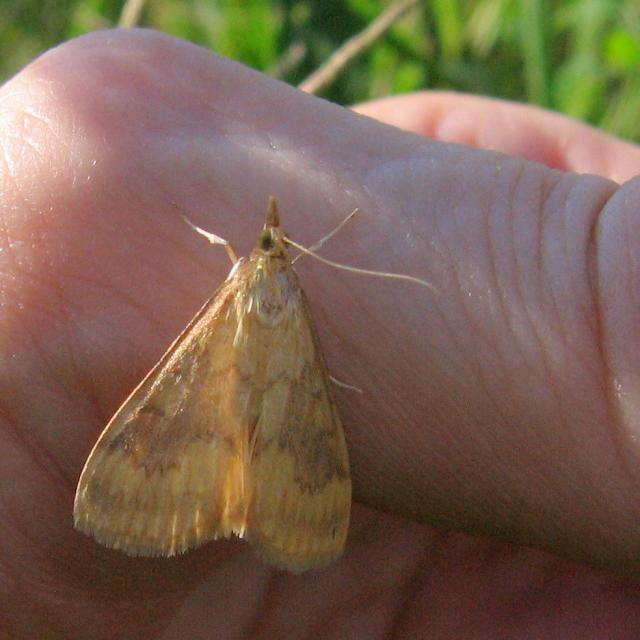cornborer-Adult-: (64, 182, 391, 588)
